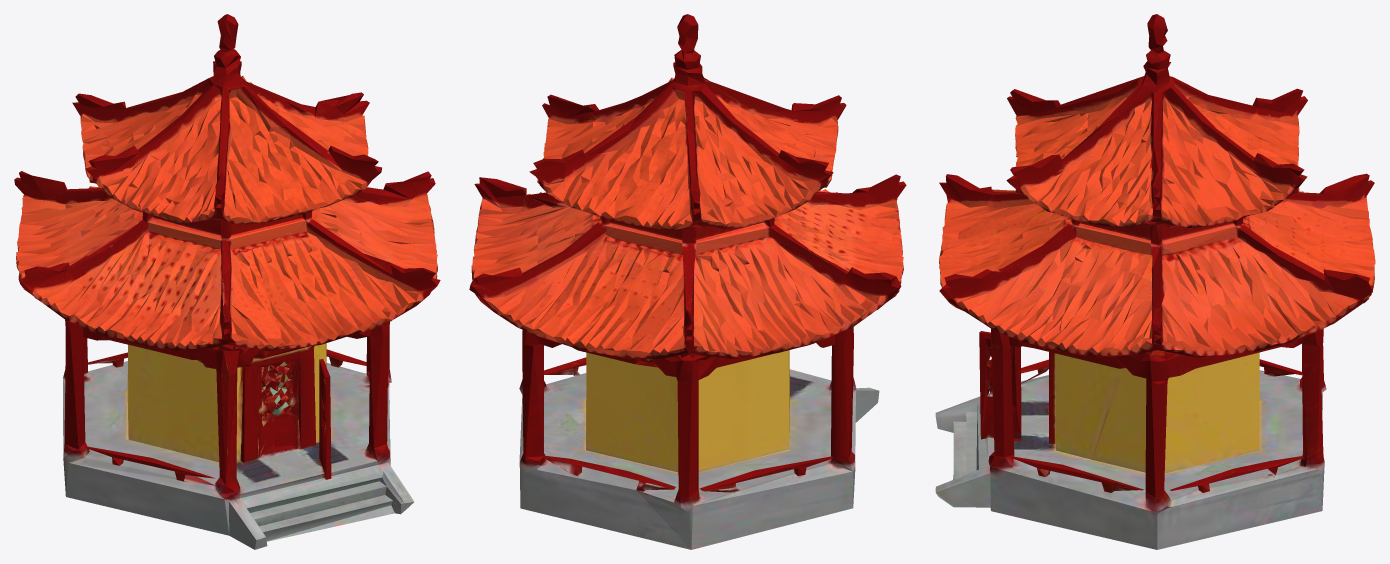
The model's file is lm_pagoda.glb.
3 renders of one model, left to right at view 1: azimuth 30°, elevation 25°; view 2: azimuth 150°, elevation 25°; view 3: azimuth 270°, elevation 25°, orthographic. The views are drawn at different scales.
Visible parts, largest first — view 1: output_unwrapped; view 2: output_unwrapped; view 3: output_unwrapped.
Boxes of the visible parts, <box> form: output_unwrapped: <box>14,14,440,549</box>; output_unwrapped: <box>469,14,906,549</box>; output_unwrapped: <box>935,14,1375,549</box>.
Size of the model in its own units: 1.85 by 1.9 by 1.66.
Materials: 1 (1 with a texture image).
